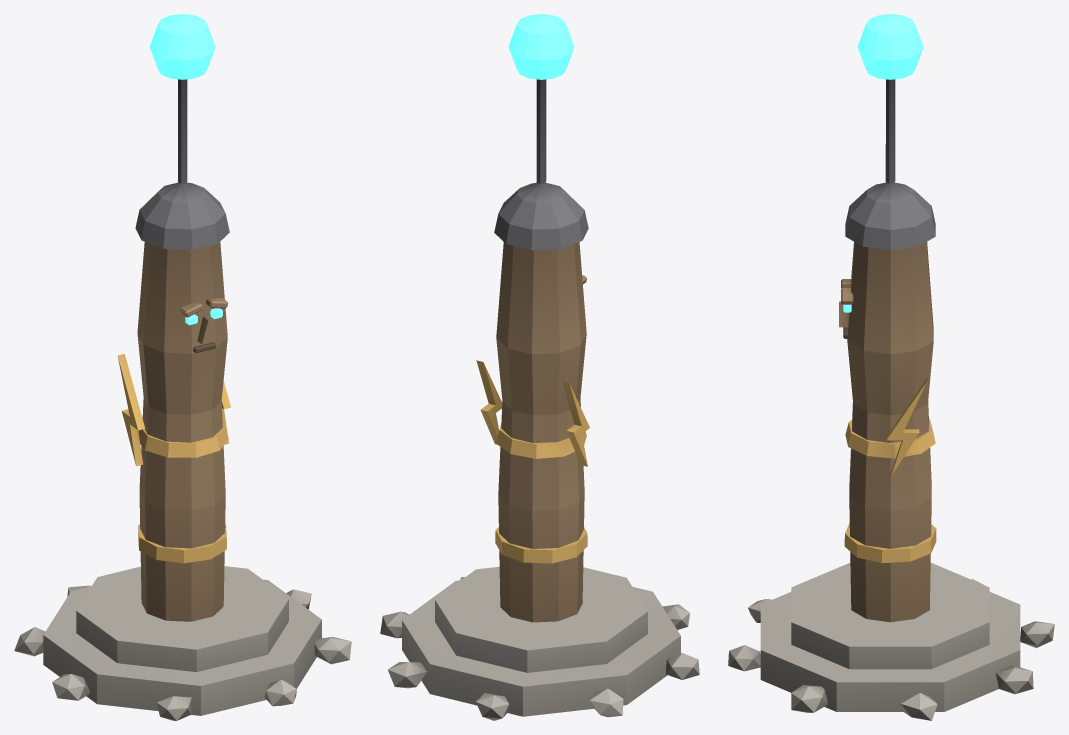
The model's file is idol_giper.glb.
3 renders of one model, left to right at view 1: azimuth 30°, elevation 25°; view 2: azimuth 150°, elevation 25°; view 3: azimuth 270°, elevation 25°, orthographic.
Parts seen in each view (by area): view 1: idol_giper; view 2: idol_giper; view 3: idol_giper.
Boxes of the visible parts, box(x1,y1,x2,y2) form: idol_giper: box(14, 14, 351, 720); idol_giper: box(380, 14, 699, 720); idol_giper: box(728, 14, 1054, 720).
Bounding box in the file's own units: 0.7979 × 1.72 × 0.7908.
